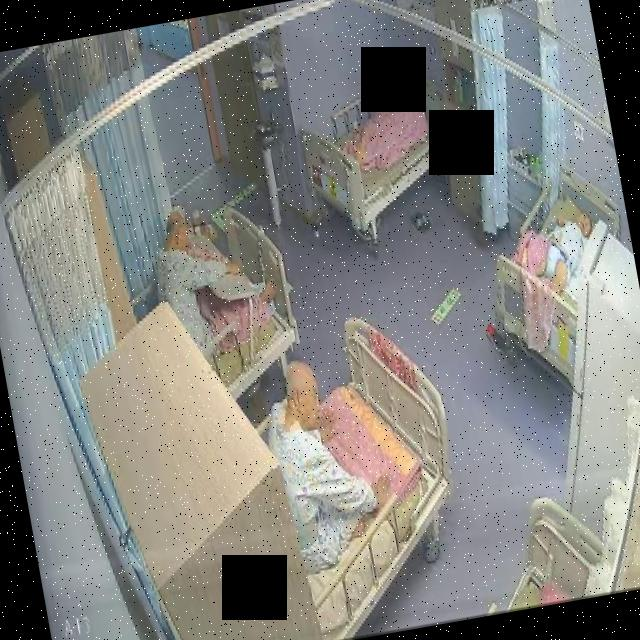bed: (235, 308, 481, 640), (471, 157, 640, 393), (143, 207, 305, 410), (294, 59, 461, 239)
lie: (538, 205, 607, 292)
patient: (255, 342, 403, 578), (141, 190, 288, 368), (537, 204, 606, 293)
sit: (255, 342, 403, 578), (142, 191, 287, 368)
